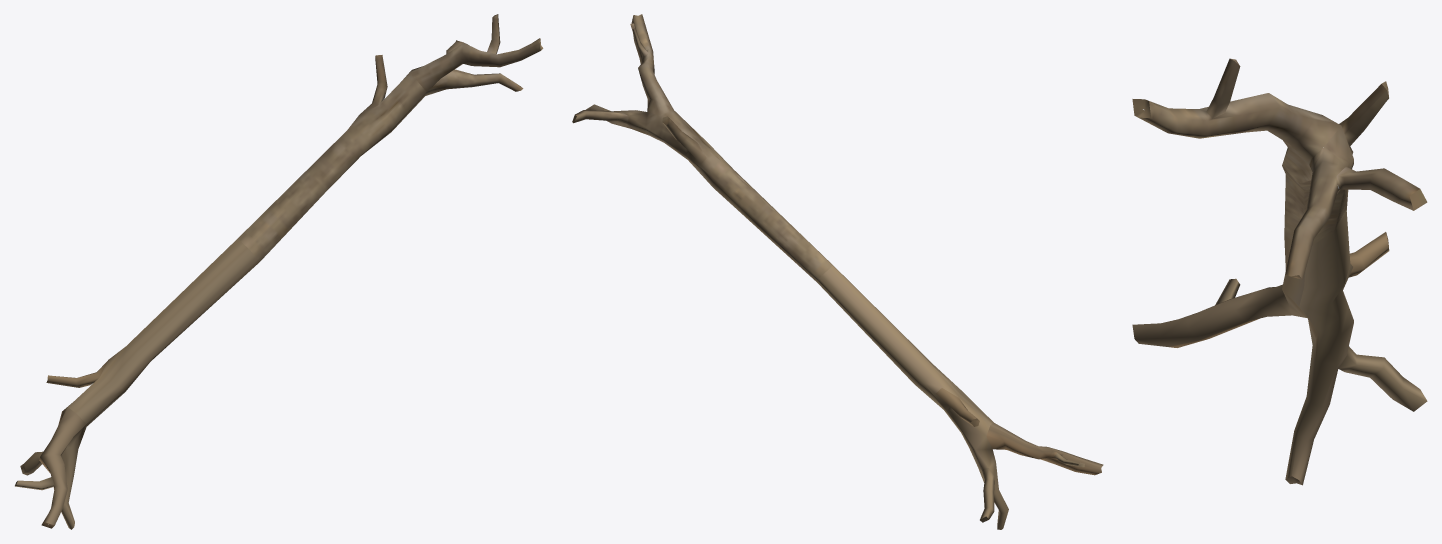
File: objects_un_dlc2_tree_dead01_04.gltf
3 renders of one model, left to right at view 1: azimuth 30°, elevation 25°; view 2: azimuth 150°, elevation 25°; view 3: azimuth 270°, elevation 25°, orthographic. The views are drawn at different scales.
Visible parts, largest first — view 1: um_objects_un_dlc2_tree_dead01_04_model_lod0Shape:objects_un; view 2: um_objects_un_dlc2_tree_dead01_04_model_lod0Shape:objects_un; view 3: um_objects_un_dlc2_tree_dead01_04_model_lod0Shape:objects_un.
Boxes of the visible parts, x1,y1,x2,y2 form: um_objects_un_dlc2_tree_dead01_04_model_lod0Shape:objects_un: [15, 14, 543, 529]; um_objects_un_dlc2_tree_dead01_04_model_lod0Shape:objects_un: [572, 14, 1103, 529]; um_objects_un_dlc2_tree_dead01_04_model_lod0Shape:objects_un: [1132, 58, 1427, 485].
Size of what is drawn, in the model's own units: 6.47 by 5.04 by 1.68.
2 materials, 1 textured.
